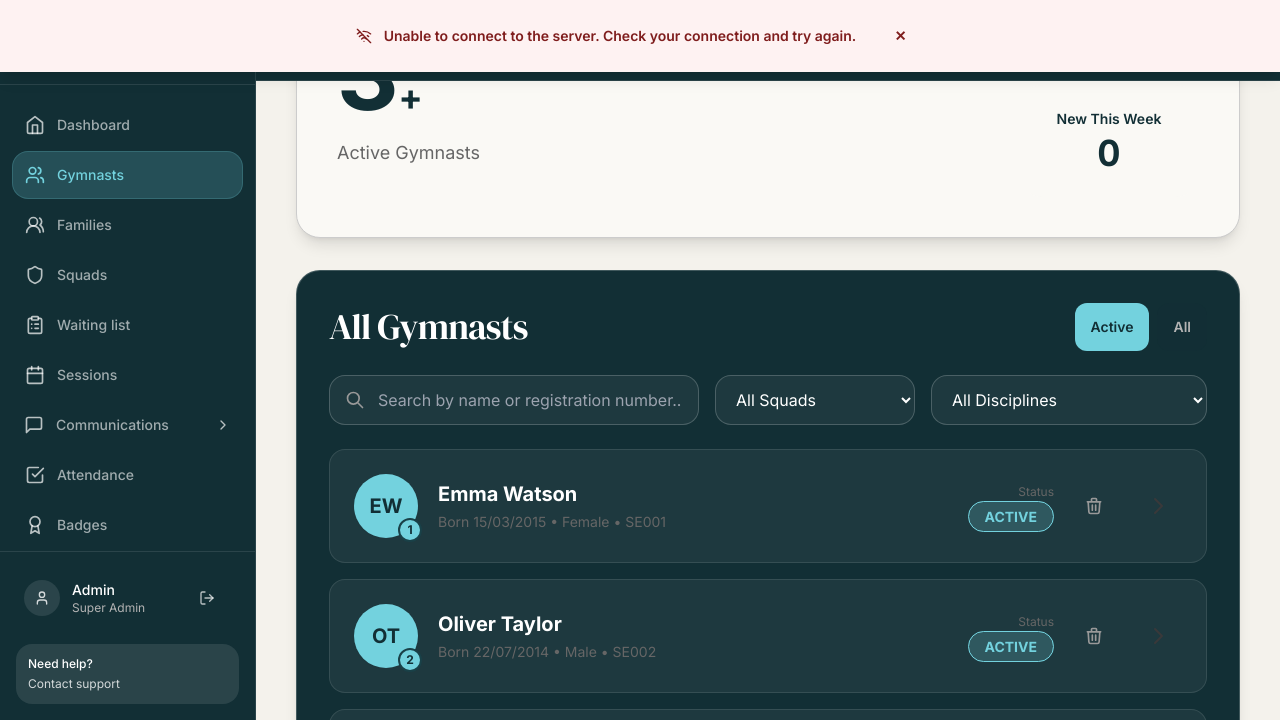
Test: MembersPage › can search by SE number
(page scrolled)
Check: the heading "Emma Watson" is shown, box [438,482,577,506]
Type "SE002" into the field with placeholder "Search by name or registration number...". click: (514, 400)
box: [329,375,699,425]
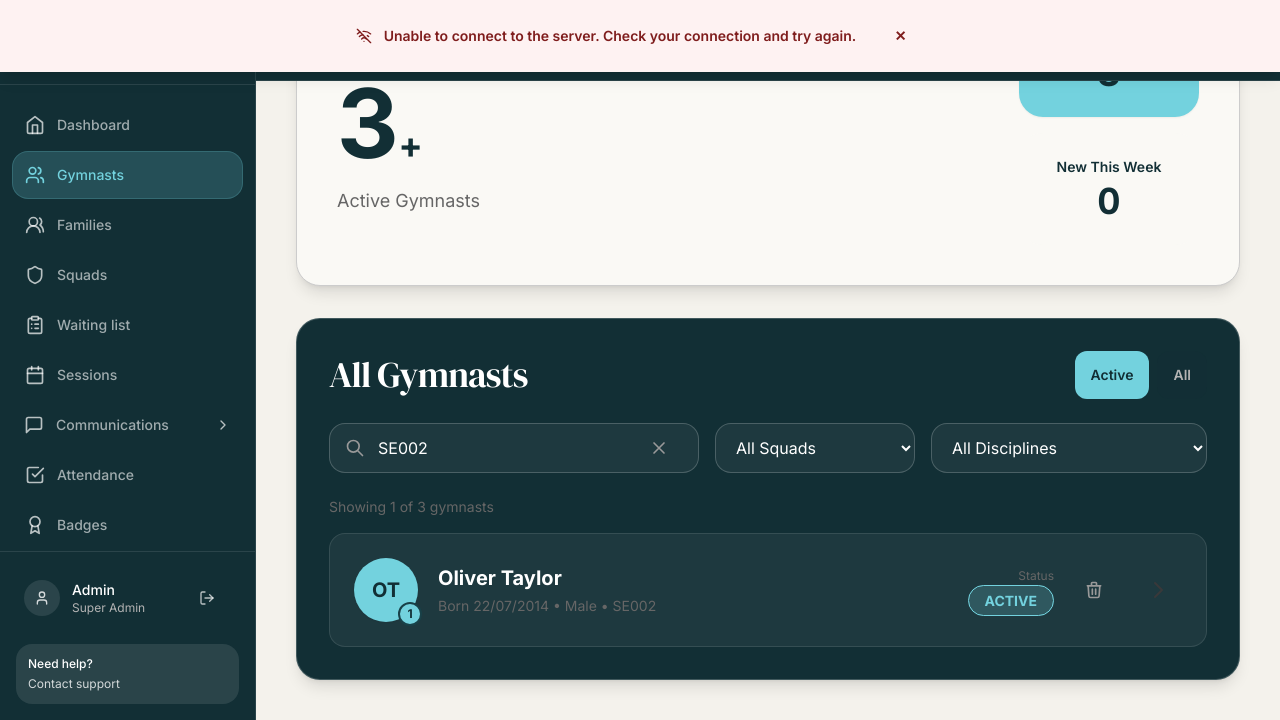
Check: the heading "Oliver Taylor" is shown, box [438,566,562,590]
Check: the link "Emma Watson" is gone
